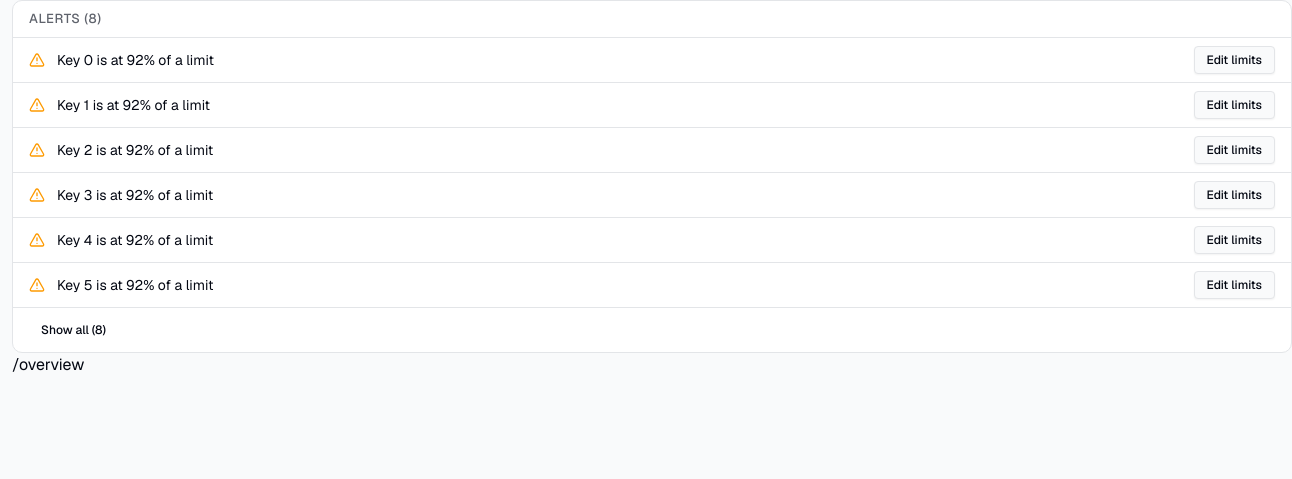
Test: AlertsPanel › shows six alerts and the rest behind show all
Check: the number of list items with test id "overview-alert" is 6, box [13,38,1291,82]; [13,82,1291,128]; [13,128,1291,172]; [13,172,1291,218]; [13,218,1291,262]; [13,262,1291,306]
Click the button "Show all (8)". click: [74, 330]
box: [29,316,118,344]
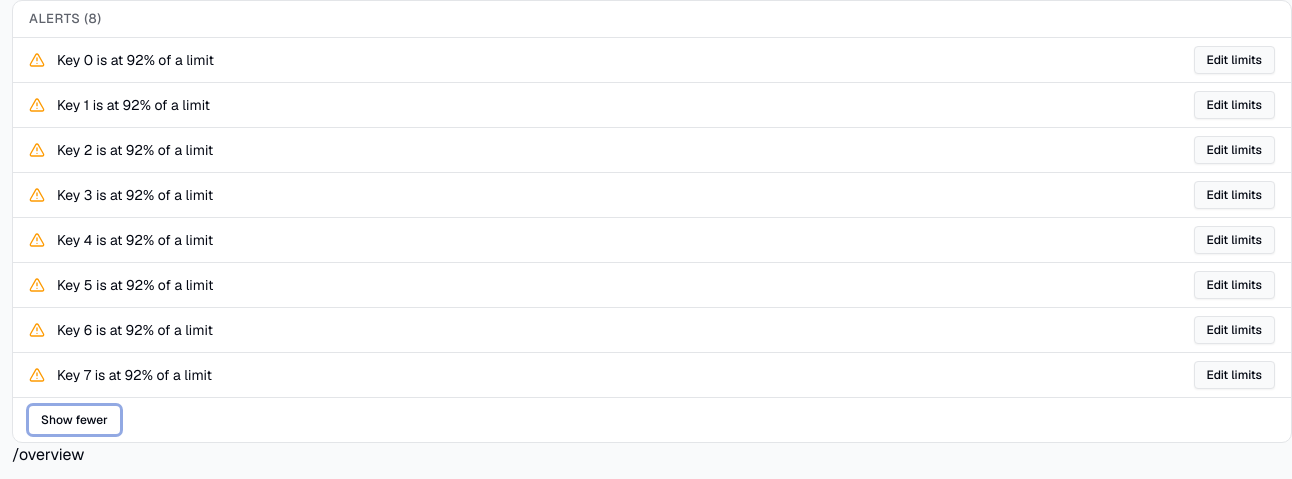
Check: the number of list items with test id "overview-alert" is 8
